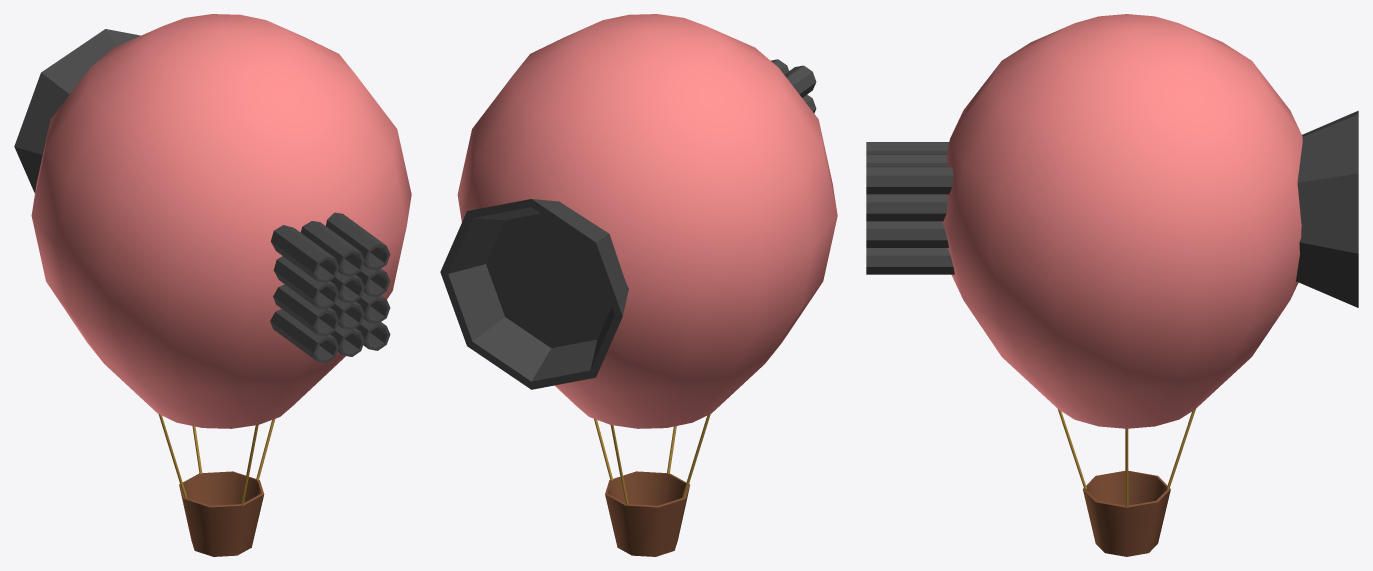
File: Lv3_FB_Hunter.FBX
3 views of the same model, side by side, from view 1: azimuth 30°, elevation 25°; view 2: azimuth 150°, elevation 25°; view 3: azimuth 270°, elevation 25° (orthographic).
Visible parts, largest first — view 1: Sphere001, Cylinder001, Line018, Line015, Line016, Line007, Line008, Line014, Line011, Line003, Line010, Line009 (+4 smaller); view 2: Sphere001, Line018, Cylinder001, Line003, Line015; view 3: Sphere001, Line018, Cylinder001, Line014, Line017, Line010, Line009, Line015, Line011, Line003.
Part boxes in pixels (<box>): Sphere001: <box>31,14,411,428</box>; Cylinder001: <box>179,471,264,556</box>; Line018: <box>14,29,140,193</box>; Line015: <box>270,225,339,283</box>; Line016: <box>270,309,339,363</box>; Line007: <box>273,256,339,309</box>; Line008: <box>273,284,339,336</box>; Line014: <box>326,212,390,270</box>; Line011: <box>300,221,364,276</box>; Line003: <box>158,414,275,504</box>; Line010: <box>356,265,390,297</box>; Line009: <box>356,292,390,324</box>; Sphere001: <box>457,14,837,428</box>; Line018: <box>440,199,628,389</box>; Cylinder001: <box>605,471,689,556</box>; Line003: <box>594,414,710,504</box>; Line015: <box>784,65,816,97</box>; Sphere001: <box>942,14,1302,428</box>; Line018: <box>1296,110,1358,307</box>; Cylinder001: <box>1083,470,1170,556</box>; Line014: <box>866,166,953,194</box>; Line017: <box>866,248,954,274</box>; Line010: <box>866,194,947,221</box>; Line009: <box>866,221,948,247</box>; Line015: <box>866,142,949,154</box>; Line011: <box>866,154,947,166</box>; Line003: <box>1058,409,1195,506</box>.
Size of the model in its own units: 130 by 192 by 167.
